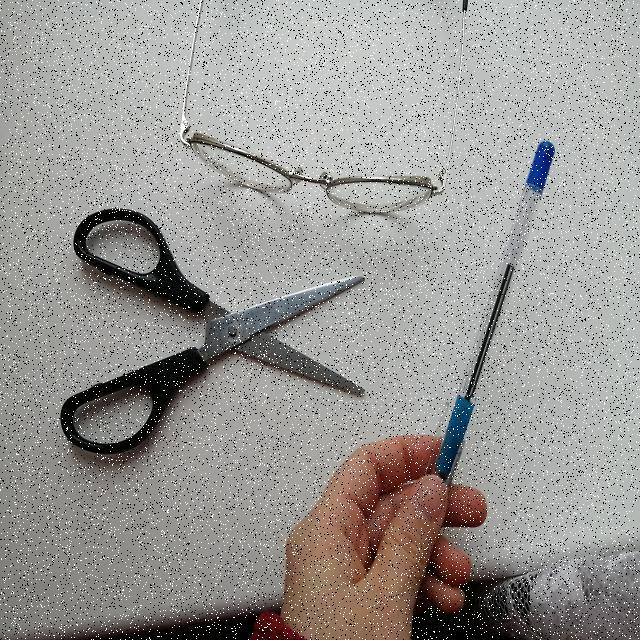scissors: (40, 190, 400, 498)
